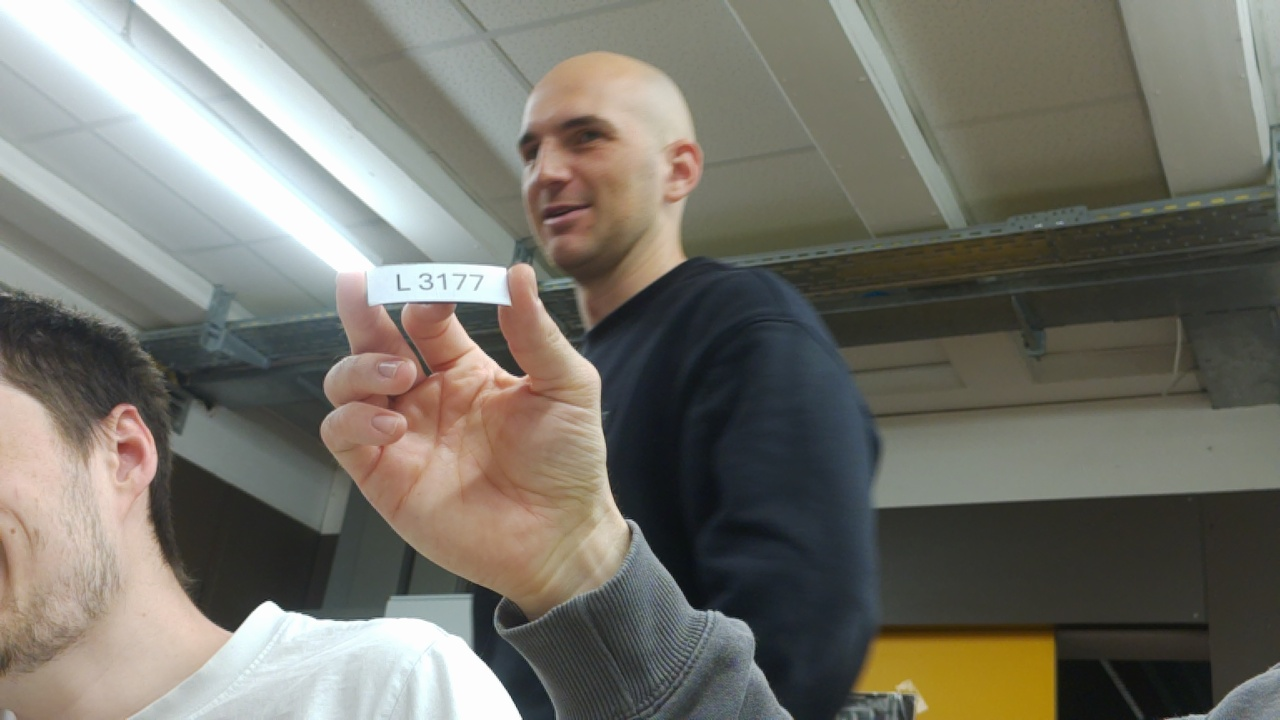license_plate: (355, 256, 514, 318)
